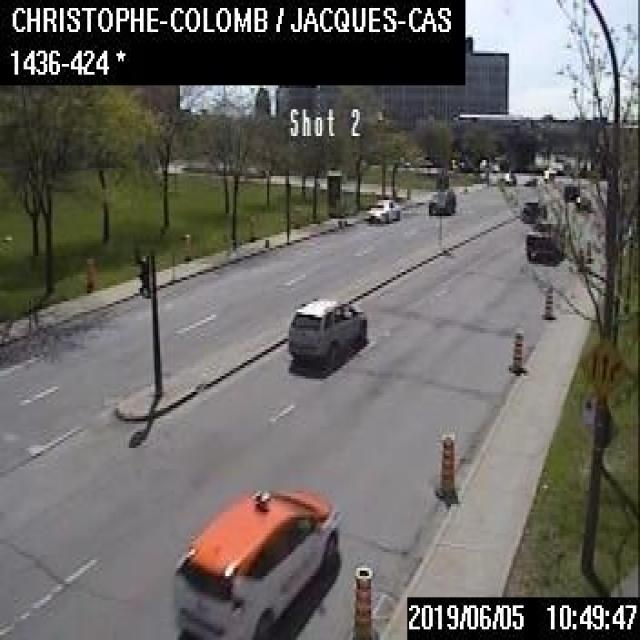construction: (351, 564, 373, 638), (434, 429, 454, 499), (507, 330, 524, 370), (540, 283, 555, 317), (84, 259, 91, 296), (184, 232, 191, 261), (222, 227, 229, 250)
vehicle: (167, 486, 338, 638), (284, 293, 367, 363), (524, 218, 566, 261), (367, 195, 400, 221), (426, 185, 454, 213), (521, 195, 546, 222), (560, 180, 578, 201), (574, 191, 590, 209)
